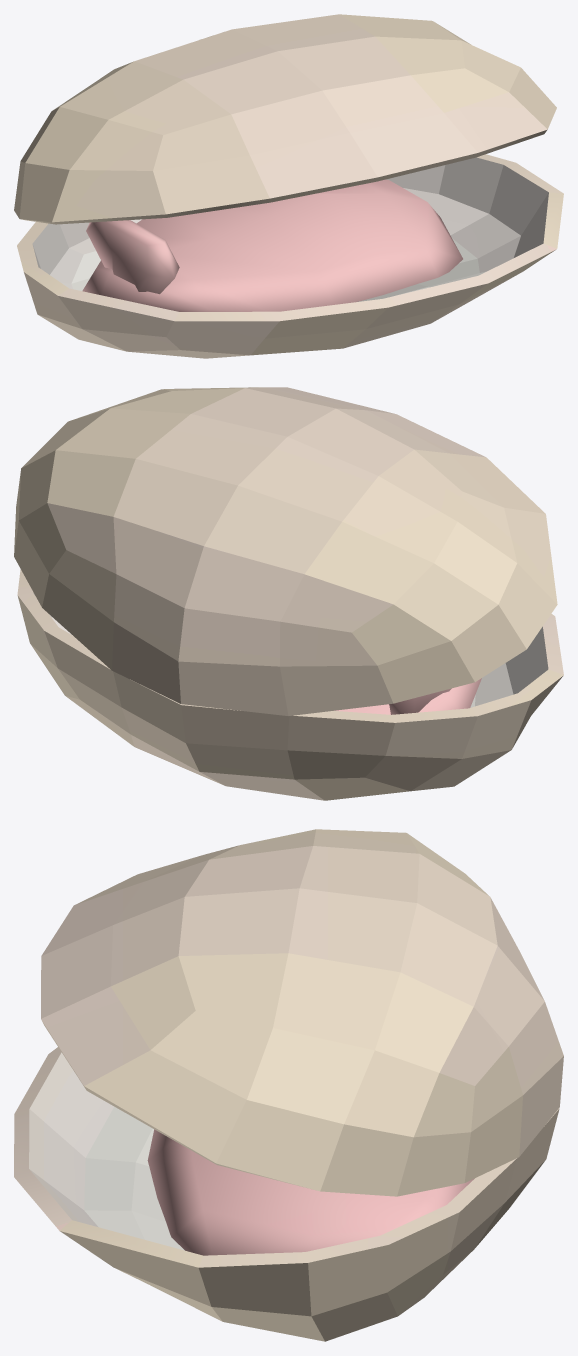
File: animals-clam-033.glb
3 renders of one model, top to bottom at view 1: azimuth 30°, elevation 25°; view 2: azimuth 150°, elevation 25°; view 3: azimuth 270°, elevation 25°, orthographic. The views are drawn at different scales.
Visible parts, largest first — view 1: Geo_Clam; view 2: Geo_Clam; view 3: Geo_Clam.
Boxes of the visible parts, box(x1,y1,x2,y2) form: Geo_Clam: box(14, 14, 563, 358); Geo_Clam: box(14, 387, 563, 800); Geo_Clam: box(14, 829, 563, 1341).
Bounding box in the file's own units: 42.88 × 24.8 × 32.61.
1 material, 1 textured.
